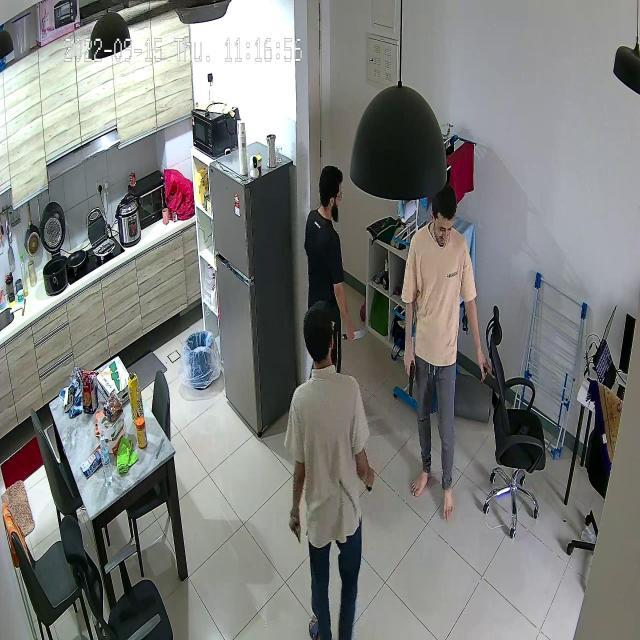Gun: (394, 353, 421, 396)
Knife: (343, 316, 372, 352)
